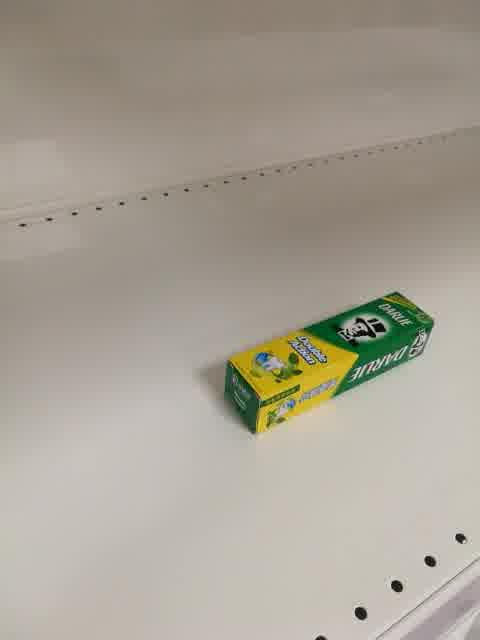toothpaste: (223, 291, 434, 438)
